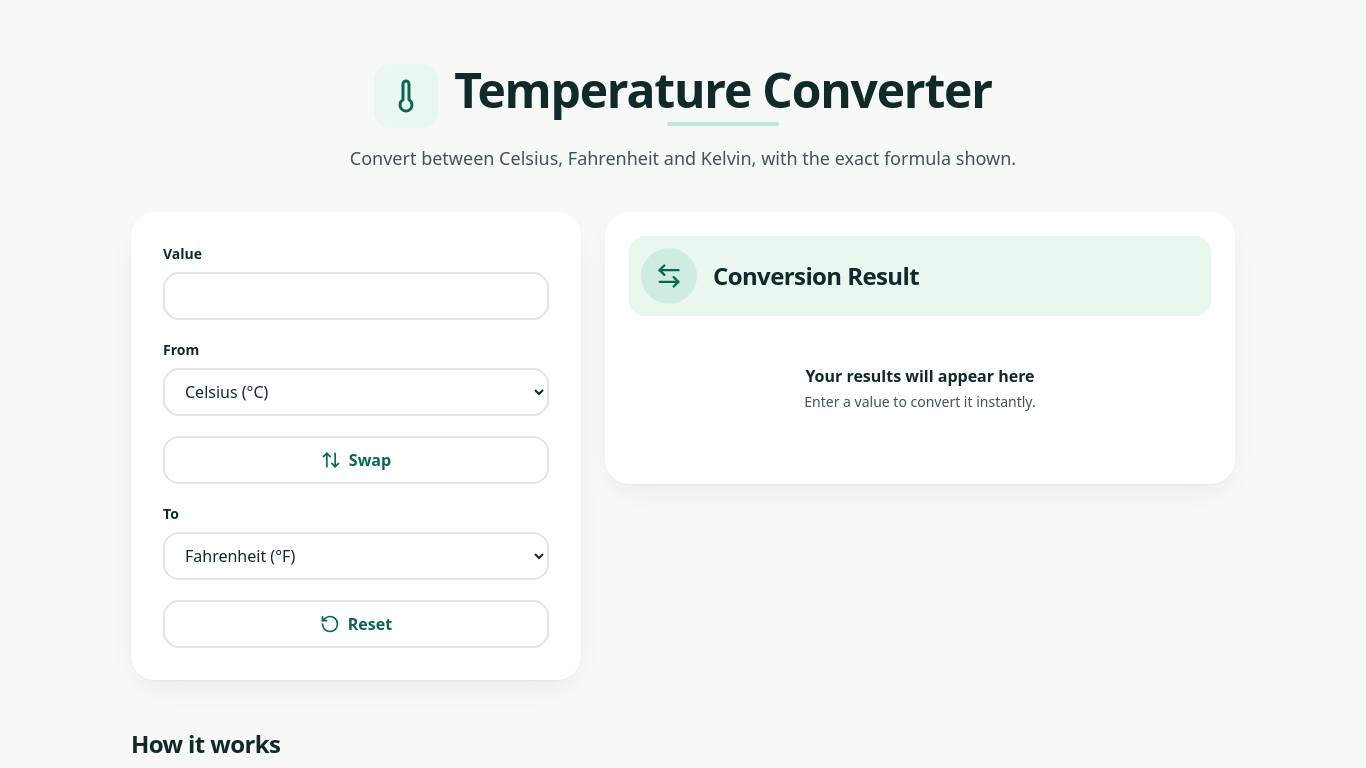
Scenario: Temperature Converter › swaps units and keeps the value
Type "212" into the field labelled "Value".
click(356, 296); type("212")  # box [163,272,549,320]
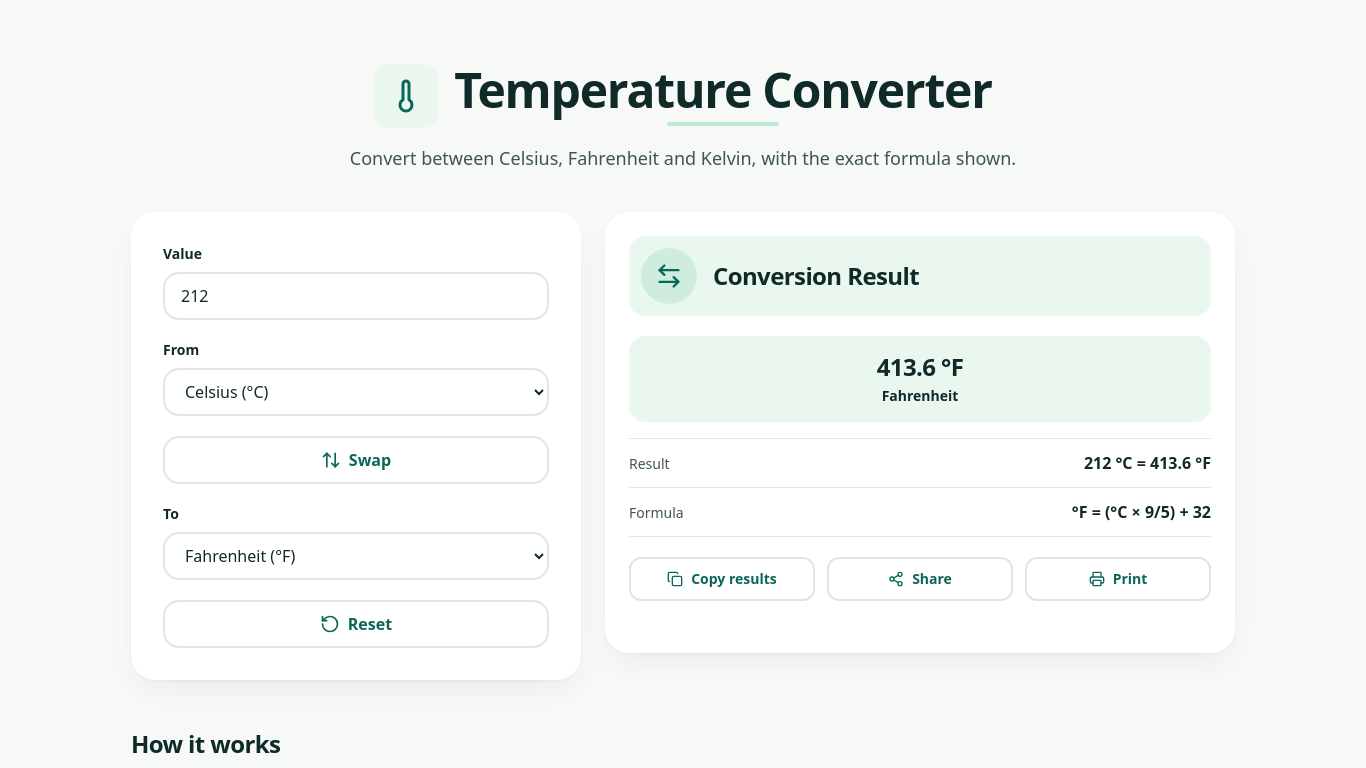
Click the button with aria-label "Swap units".
click(356, 460)  # box [163,436,549,484]
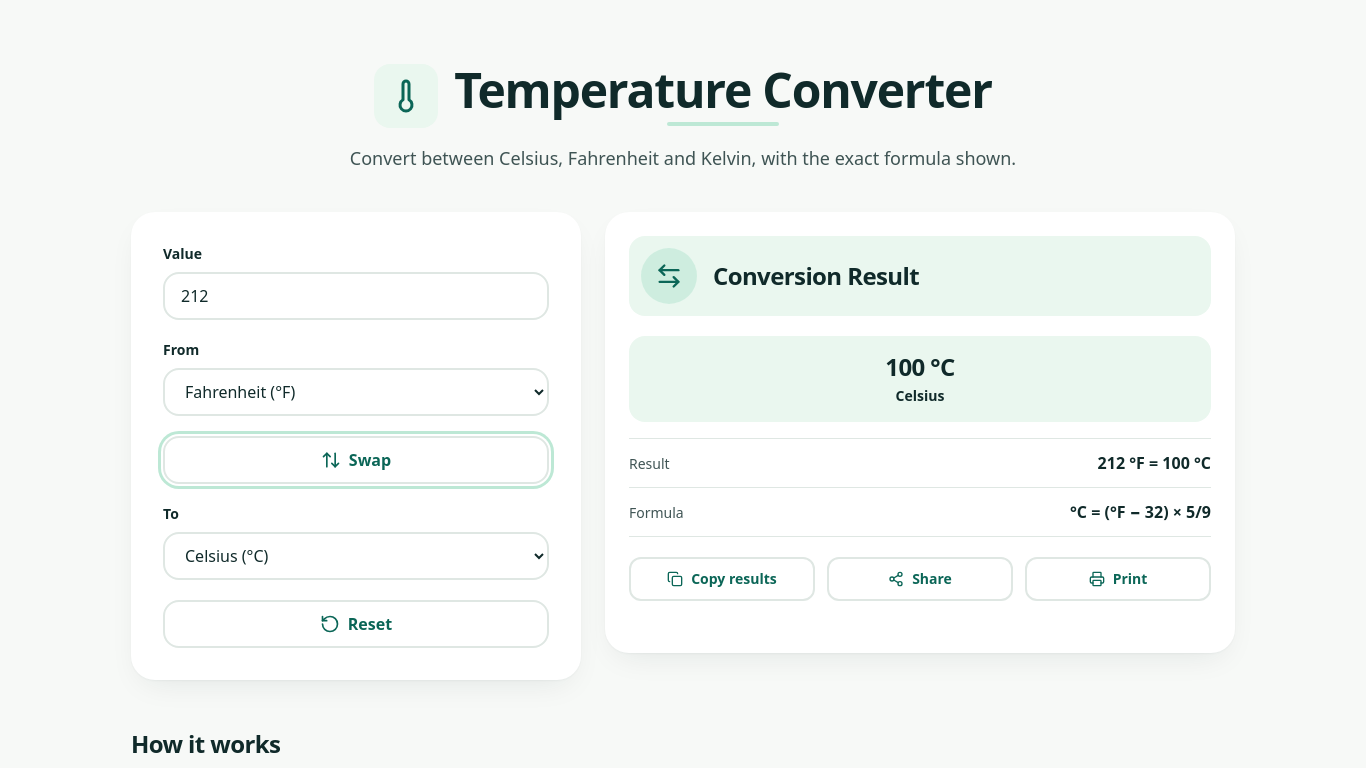
Expected: the dropdown labelled "From" shows "Fahrenheit (°F)", [163,368,549,416]
